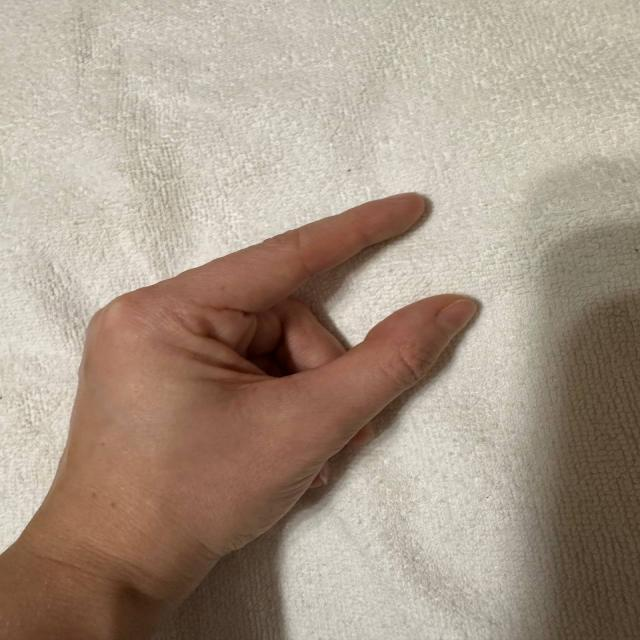-: (83, 184, 520, 477)
